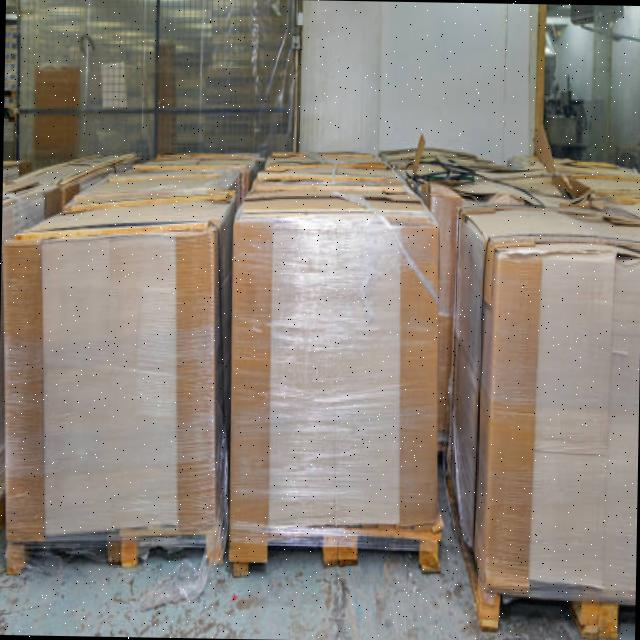Wooden-Pallets: (218, 522, 450, 598), (0, 523, 226, 579)
